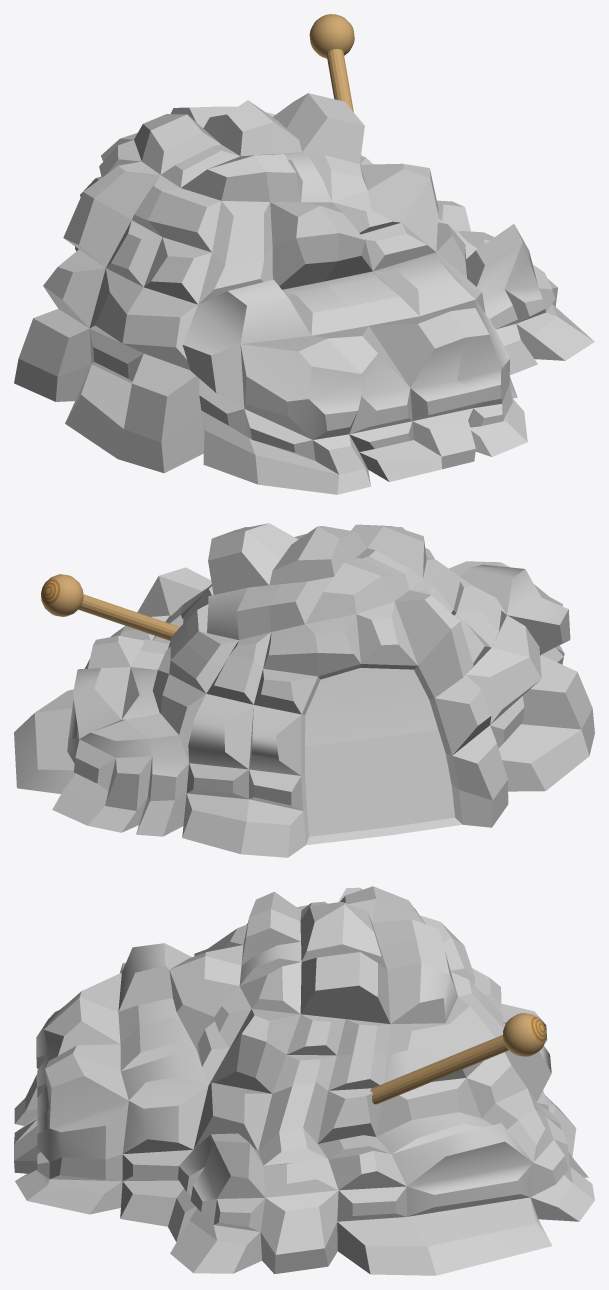
File: denModel.fbx
3 renders of one model, top to bottom at view 1: azimuth 30°, elevation 25°; view 2: azimuth 150°, elevation 25°; view 3: azimuth 270°, elevation 25°, orthographic. The views are drawn at different scales.
Parts seen in each view (by area): view 1: pCube1, stick:pSphere1; view 2: pCube1, stick:pSphere1; view 3: pCube1, stick:pSphere1.
Boxes of the visible parts, left/top/right/bottom form: pCube1: left=14, top=93, right=594, bottom=494; stick:pSphere1: left=309, top=14, right=361, bottom=155; pCube1: left=14, top=523, right=594, bottom=857; stick:pSphere1: left=41, top=574, right=179, bottom=640; pCube1: left=14, top=886, right=594, bottom=1275; stick:pSphere1: left=370, top=1013, right=546, bottom=1104.
Bounding box in the file's own units: 19.3 × 9.48 × 20.63.
